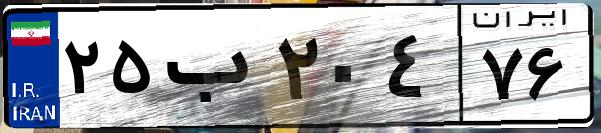0: (330, 28, 385, 110)
2: (270, 28, 330, 110), (57, 26, 110, 100)
4: (385, 28, 445, 110)
5: (110, 28, 158, 98)
6: (525, 38, 570, 115)
7: (475, 38, 525, 113)
ب: (158, 20, 270, 120)
